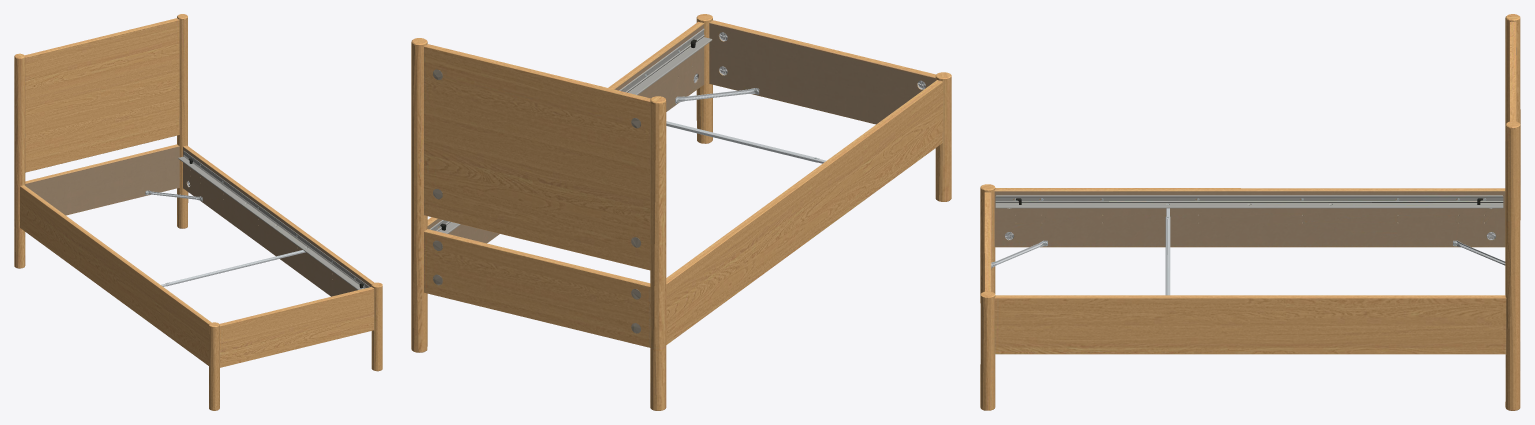
The picture shows the model from 3 angles, left to right: view 1: azimuth 30°, elevation 25°; view 2: azimuth 150°, elevation 25°; view 3: azimuth 270°, elevation 25°; orthographic projection. The views are drawn at different scales.
Visible parts, largest first — view 1: 10603547-TONSTAD001_NODE_ID_8cd78b29-1a9d-4347-9e15-cfa7aa06; view 2: 10603547-TONSTAD001_NODE_ID_8cd78b29-1a9d-4347-9e15-cfa7aa06; view 3: 10603547-TONSTAD001_NODE_ID_8cd78b29-1a9d-4347-9e15-cfa7aa06.
Boxes of the visible parts, <box> form: 10603547-TONSTAD001_NODE_ID_8cd78b29-1a9d-4347-9e15-cfa7aa06: <box>14,14,382,410</box>; 10603547-TONSTAD001_NODE_ID_8cd78b29-1a9d-4347-9e15-cfa7aa06: <box>411,14,951,410</box>; 10603547-TONSTAD001_NODE_ID_8cd78b29-1a9d-4347-9e15-cfa7aa06: <box>980,14,1520,410</box>.
Size of the model in its own units: 0.99 by 1.16 by 1.99.
1 material, 1 textured.
